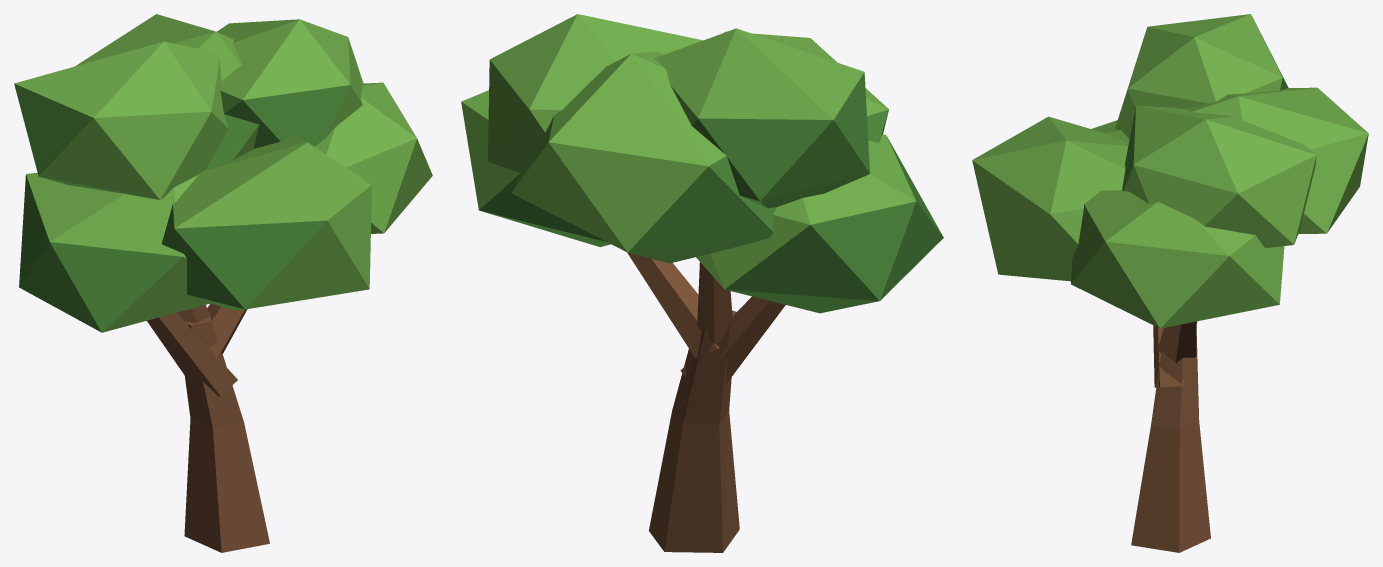
Rendered from BE_Nature_TreeRoundC.fbx.
3 views of the same model, side by side, from view 1: azimuth 30°, elevation 25°; view 2: azimuth 150°, elevation 25°; view 3: azimuth 270°, elevation 25° (orthographic). The views are drawn at different scales.
Parts seen in each view (by area): view 1: BE_Nature_TreeRoundC_LeafBase_6FAE4A, BE_Nature_TreeRoundC_LeafShade_4C8A3A, BE_Nature_TreeRoundC_TrunkBase_7A5236, BE_Nature_TreeRoundC_TrunkShade_62412C; view 2: BE_Nature_TreeRoundC_LeafBase_6FAE4A, BE_Nature_TreeRoundC_LeafShade_4C8A3A, BE_Nature_TreeRoundC_TrunkBase_7A5236, BE_Nature_TreeRoundC_TrunkShade_62412C; view 3: BE_Nature_TreeRoundC_LeafBase_6FAE4A, BE_Nature_TreeRoundC_TrunkBase_7A5236, BE_Nature_TreeRoundC_TrunkShade_62412C, BE_Nature_TreeRoundC_LeafShade_4C8A3A.
Boxes of the visible parts, left/top/right/bottom form: BE_Nature_TreeRoundC_LeafBase_6FAE4A: left=14, top=14, right=432, bottom=332; BE_Nature_TreeRoundC_LeafShade_4C8A3A: left=14, top=83, right=350, bottom=332; BE_Nature_TreeRoundC_TrunkBase_7A5236: left=159, top=303, right=269, bottom=552; BE_Nature_TreeRoundC_TrunkShade_62412C: left=147, top=305, right=220, bottom=396; BE_Nature_TreeRoundC_LeafBase_6FAE4A: left=461, top=14, right=916, bottom=289; BE_Nature_TreeRoundC_LeafShade_4C8A3A: left=479, top=72, right=943, bottom=313; BE_Nature_TreeRoundC_TrunkBase_7A5236: left=627, top=252, right=785, bottom=552; BE_Nature_TreeRoundC_TrunkShade_62412C: left=664, top=322, right=730, bottom=552; BE_Nature_TreeRoundC_LeafBase_6FAE4A: left=972, top=14, right=1368, bottom=328; BE_Nature_TreeRoundC_TrunkBase_7A5236: left=1131, top=321, right=1210, bottom=552; BE_Nature_TreeRoundC_TrunkShade_62412C: left=1176, top=321, right=1196, bottom=363; BE_Nature_TreeRoundC_LeafShade_4C8A3A: left=1122, top=18, right=1288, bottom=190.
Bounding box in the file's own units: 24 × 22 × 29.
